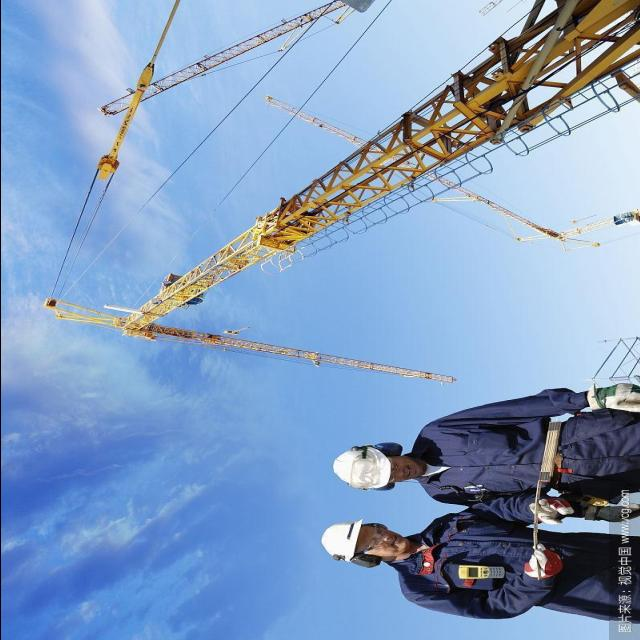helmet: (331, 438, 396, 498), (318, 512, 368, 566)
